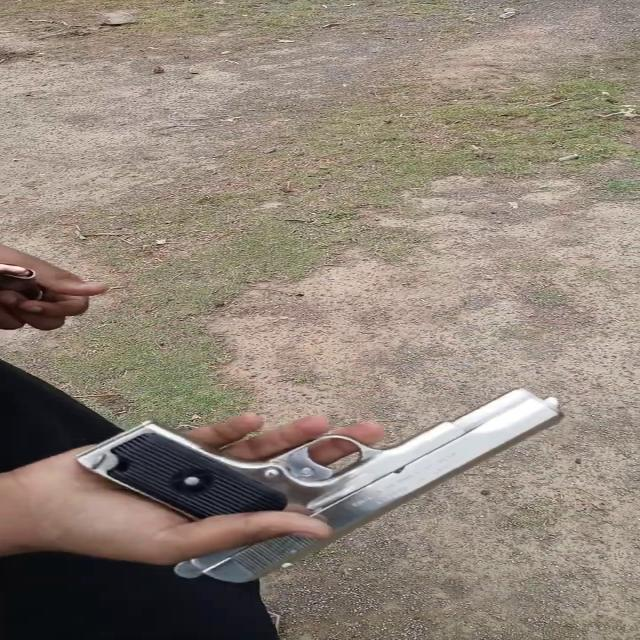Handgun: (91, 388, 569, 588)
